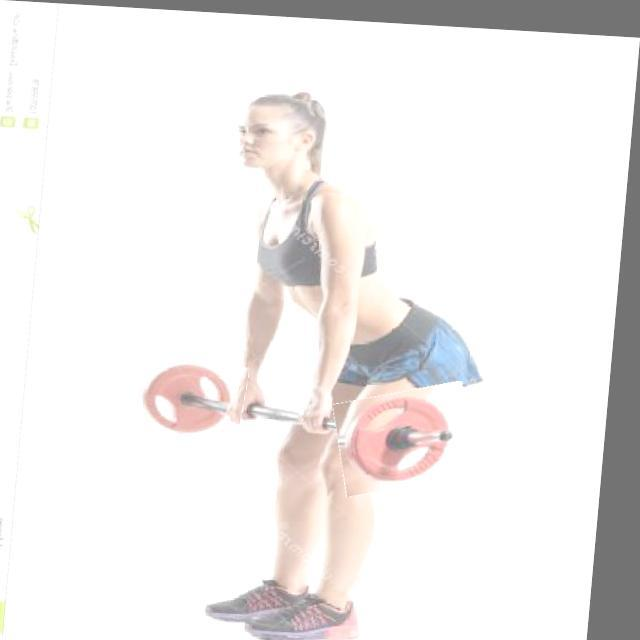barbell: (340, 377, 486, 492), (126, 351, 257, 445)
